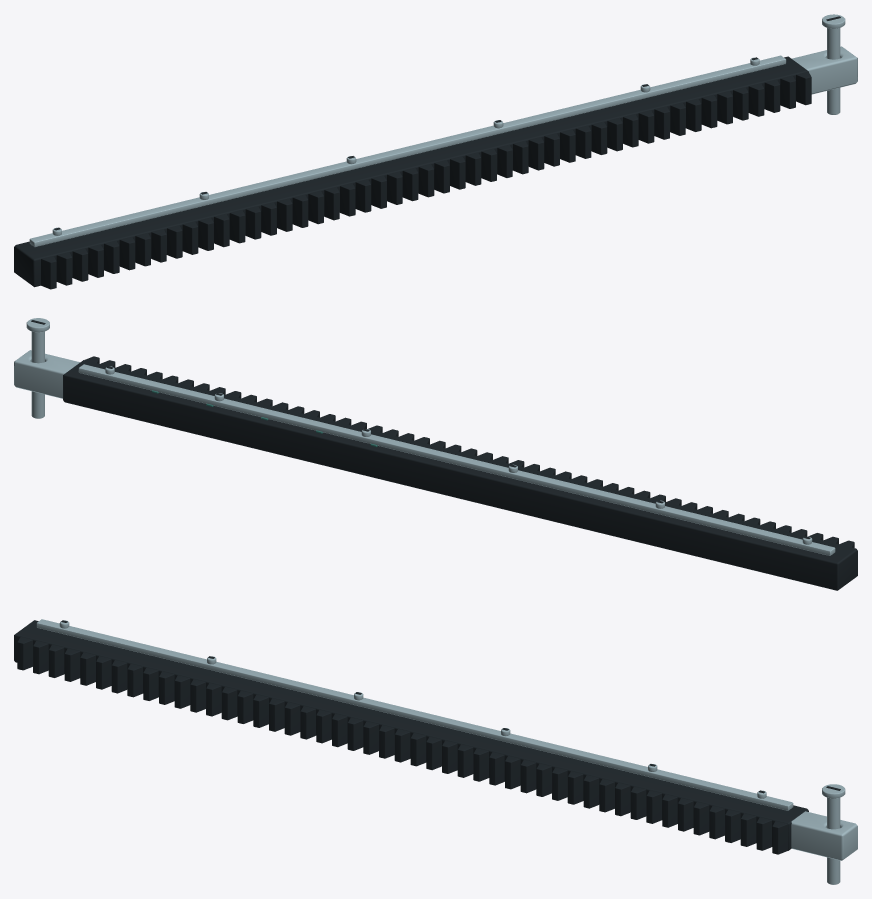
The picture shows the model from 3 angles, top to bottom: view 1: azimuth 30°, elevation 25°; view 2: azimuth 150°, elevation 25°; view 3: azimuth 330°, elevation 25°; orthographic projection.
Parts seen in each view (by area): view 1: Export_R03_rack_body__Launcher_Graphite_POM__rack_guide_and_, Export_R03_backbone__Launcher_Brushed_Steel__backbone, Export_R03_rack_body__Launcher_Brushed_Steel__rack_guide_and, Export_R03_service_pin__Launcher_Brushed_Steel__service_fast; view 2: Export_R03_rack_body__Launcher_Graphite_POM__rack_guide_and_, Export_R03_backbone__Launcher_Brushed_Steel__backbone, Export_R03_rack_body__Launcher_Brushed_Steel__rack_guide_and, Export_R03_service_pin__Launcher_Brushed_Steel__service_fast; view 3: Export_R03_rack_body__Launcher_Graphite_POM__rack_guide_and_, Export_R03_backbone__Launcher_Brushed_Steel__backbone, Export_R03_rack_body__Launcher_Brushed_Steel__rack_guide_and, Export_R03_service_pin__Launcher_Brushed_Steel__service_fast.
Boxes of the visible parts, left/top/right/bottom form: Export_R03_rack_body__Launcher_Graphite_POM__rack_guide_and_: left=14, top=56, right=811, bottom=289; Export_R03_backbone__Launcher_Brushed_Steel__backbone: left=29, top=55, right=786, bottom=246; Export_R03_rack_body__Launcher_Brushed_Steel__rack_guide_and: left=792, top=46, right=857, bottom=94; Export_R03_service_pin__Launcher_Brushed_Steel__service_fast: left=822, top=14, right=845, bottom=114; Export_R03_rack_body__Launcher_Graphite_POM__rack_guide_and_: left=63, top=356, right=857, bottom=590; Export_R03_backbone__Launcher_Brushed_Steel__backbone: left=78, top=364, right=835, bottom=555; Export_R03_rack_body__Launcher_Brushed_Steel__rack_guide_and: left=14, top=350, right=79, bottom=398; Export_R03_service_pin__Launcher_Brushed_Steel__service_fast: left=26, top=318, right=49, bottom=418; Export_R03_rack_body__Launcher_Graphite_POM__rack_guide_and_: left=14, top=620, right=808, bottom=854; Export_R03_backbone__Launcher_Brushed_Steel__backbone: left=36, top=619, right=793, bottom=810; Export_R03_rack_body__Launcher_Brushed_Steel__rack_guide_and: left=791, top=811, right=857, bottom=860; Export_R03_service_pin__Launcher_Brushed_Steel__service_fast: left=822, top=784, right=845, bottom=884.
Size of the model in its own units: 2.42 by 0.2635 by 0.1371.
